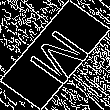M_SE: (18, 21, 92, 89)
